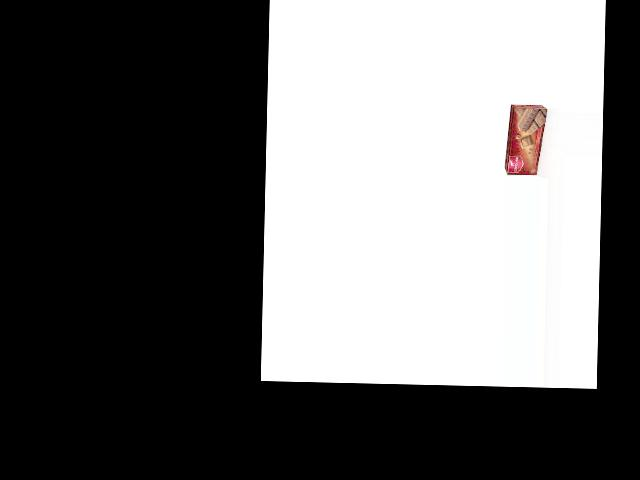chocolate: (504, 105, 548, 176)
